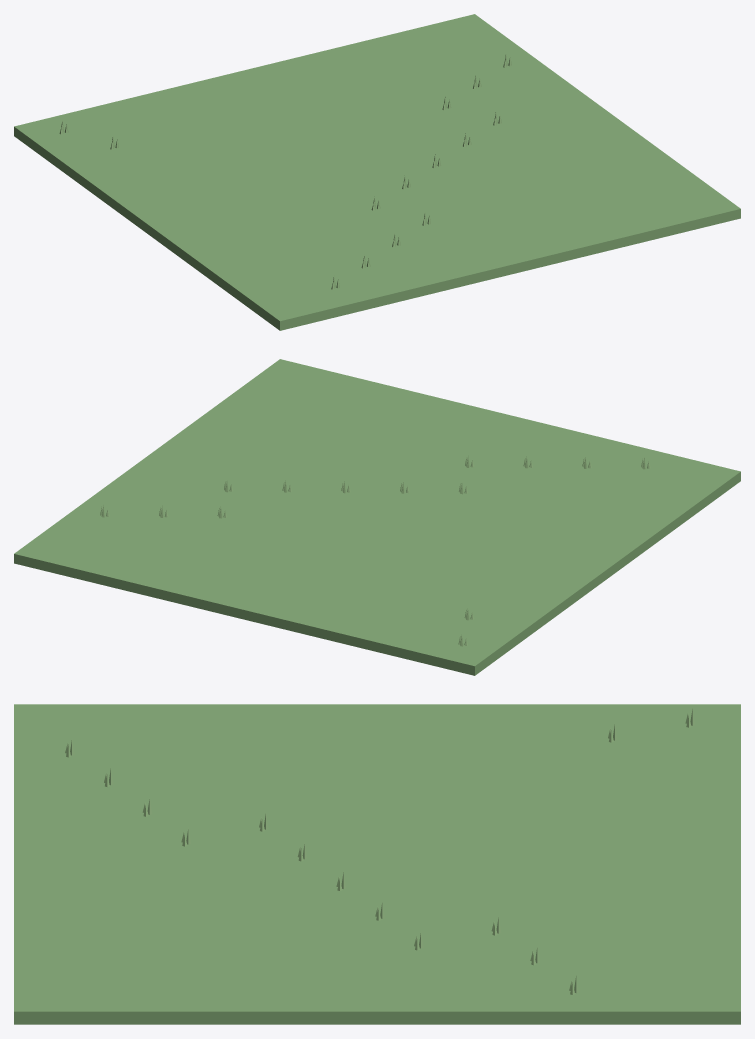
Rendered from racecourse-and-parade-ring-grass-ground-module-pale-1734190c__38647.glb.
3 views of the same model, one above another, from view 1: azimuth 30°, elevation 25°; view 2: azimuth 150°, elevation 25°; view 3: azimuth 270°, elevation 25° (orthographic). The views are drawn at different scales.
Parts seen in each view (by area): view 1: grass-ground-module-pale; view 2: grass-ground-module-pale; view 3: grass-ground-module-pale.
Boxes of the visible parts, left/top/right/bottom form: grass-ground-module-pale: left=14, top=14, right=740, bottom=330; grass-ground-module-pale: left=14, top=359, right=740, bottom=675; grass-ground-module-pale: left=14, top=704, right=740, bottom=1024.
Bounding box in the file's own units: 6 × 0.2699 × 6.
